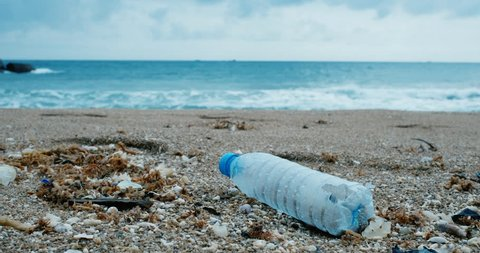plastic_bottle: (186, 114, 430, 253)
